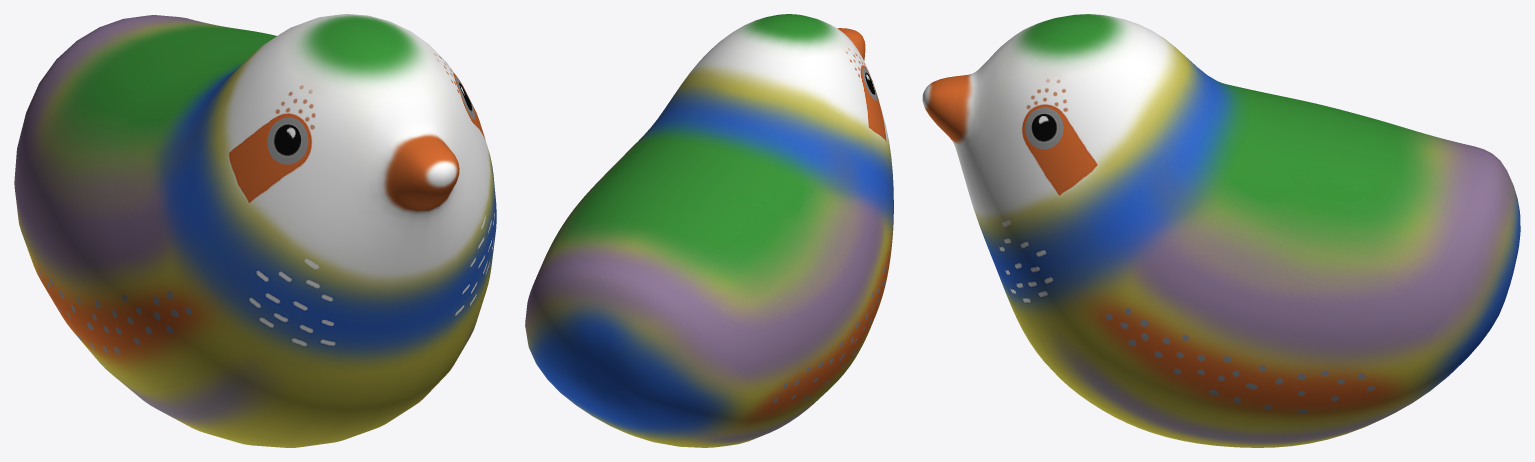
Rendered from bird_decoration.obj.
The picture shows the model from 3 angles, left to right: view 1: azimuth 30°, elevation 25°; view 2: azimuth 150°, elevation 25°; view 3: azimuth 270°, elevation 25°; orthographic projection. The views are drawn at different scales.
Parts seen in each view (by area): view 1: bird_decoration; view 2: bird_decoration; view 3: bird_decoration.
Part boxes in pixels (x1=…): bird_decoration: x1=14, y1=14, x2=496, y2=447; bird_decoration: x1=525, y1=14, x2=893, y2=447; bird_decoration: x1=922, y1=14, x2=1520, y2=447.
Bounding box in the file's own units: 1.37 × 1.68 × 2.23.
1 material, 1 textured.
